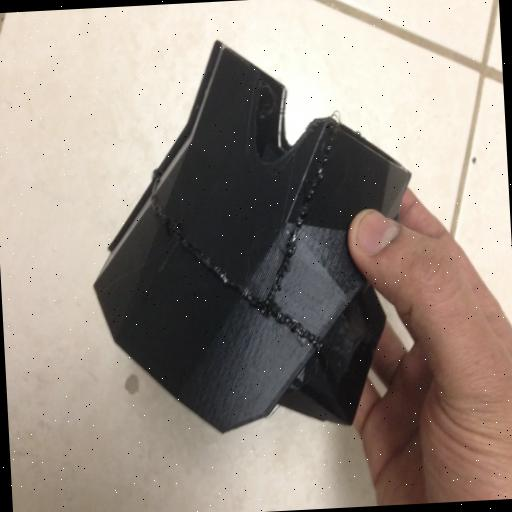blobs: (139, 118, 345, 361)
